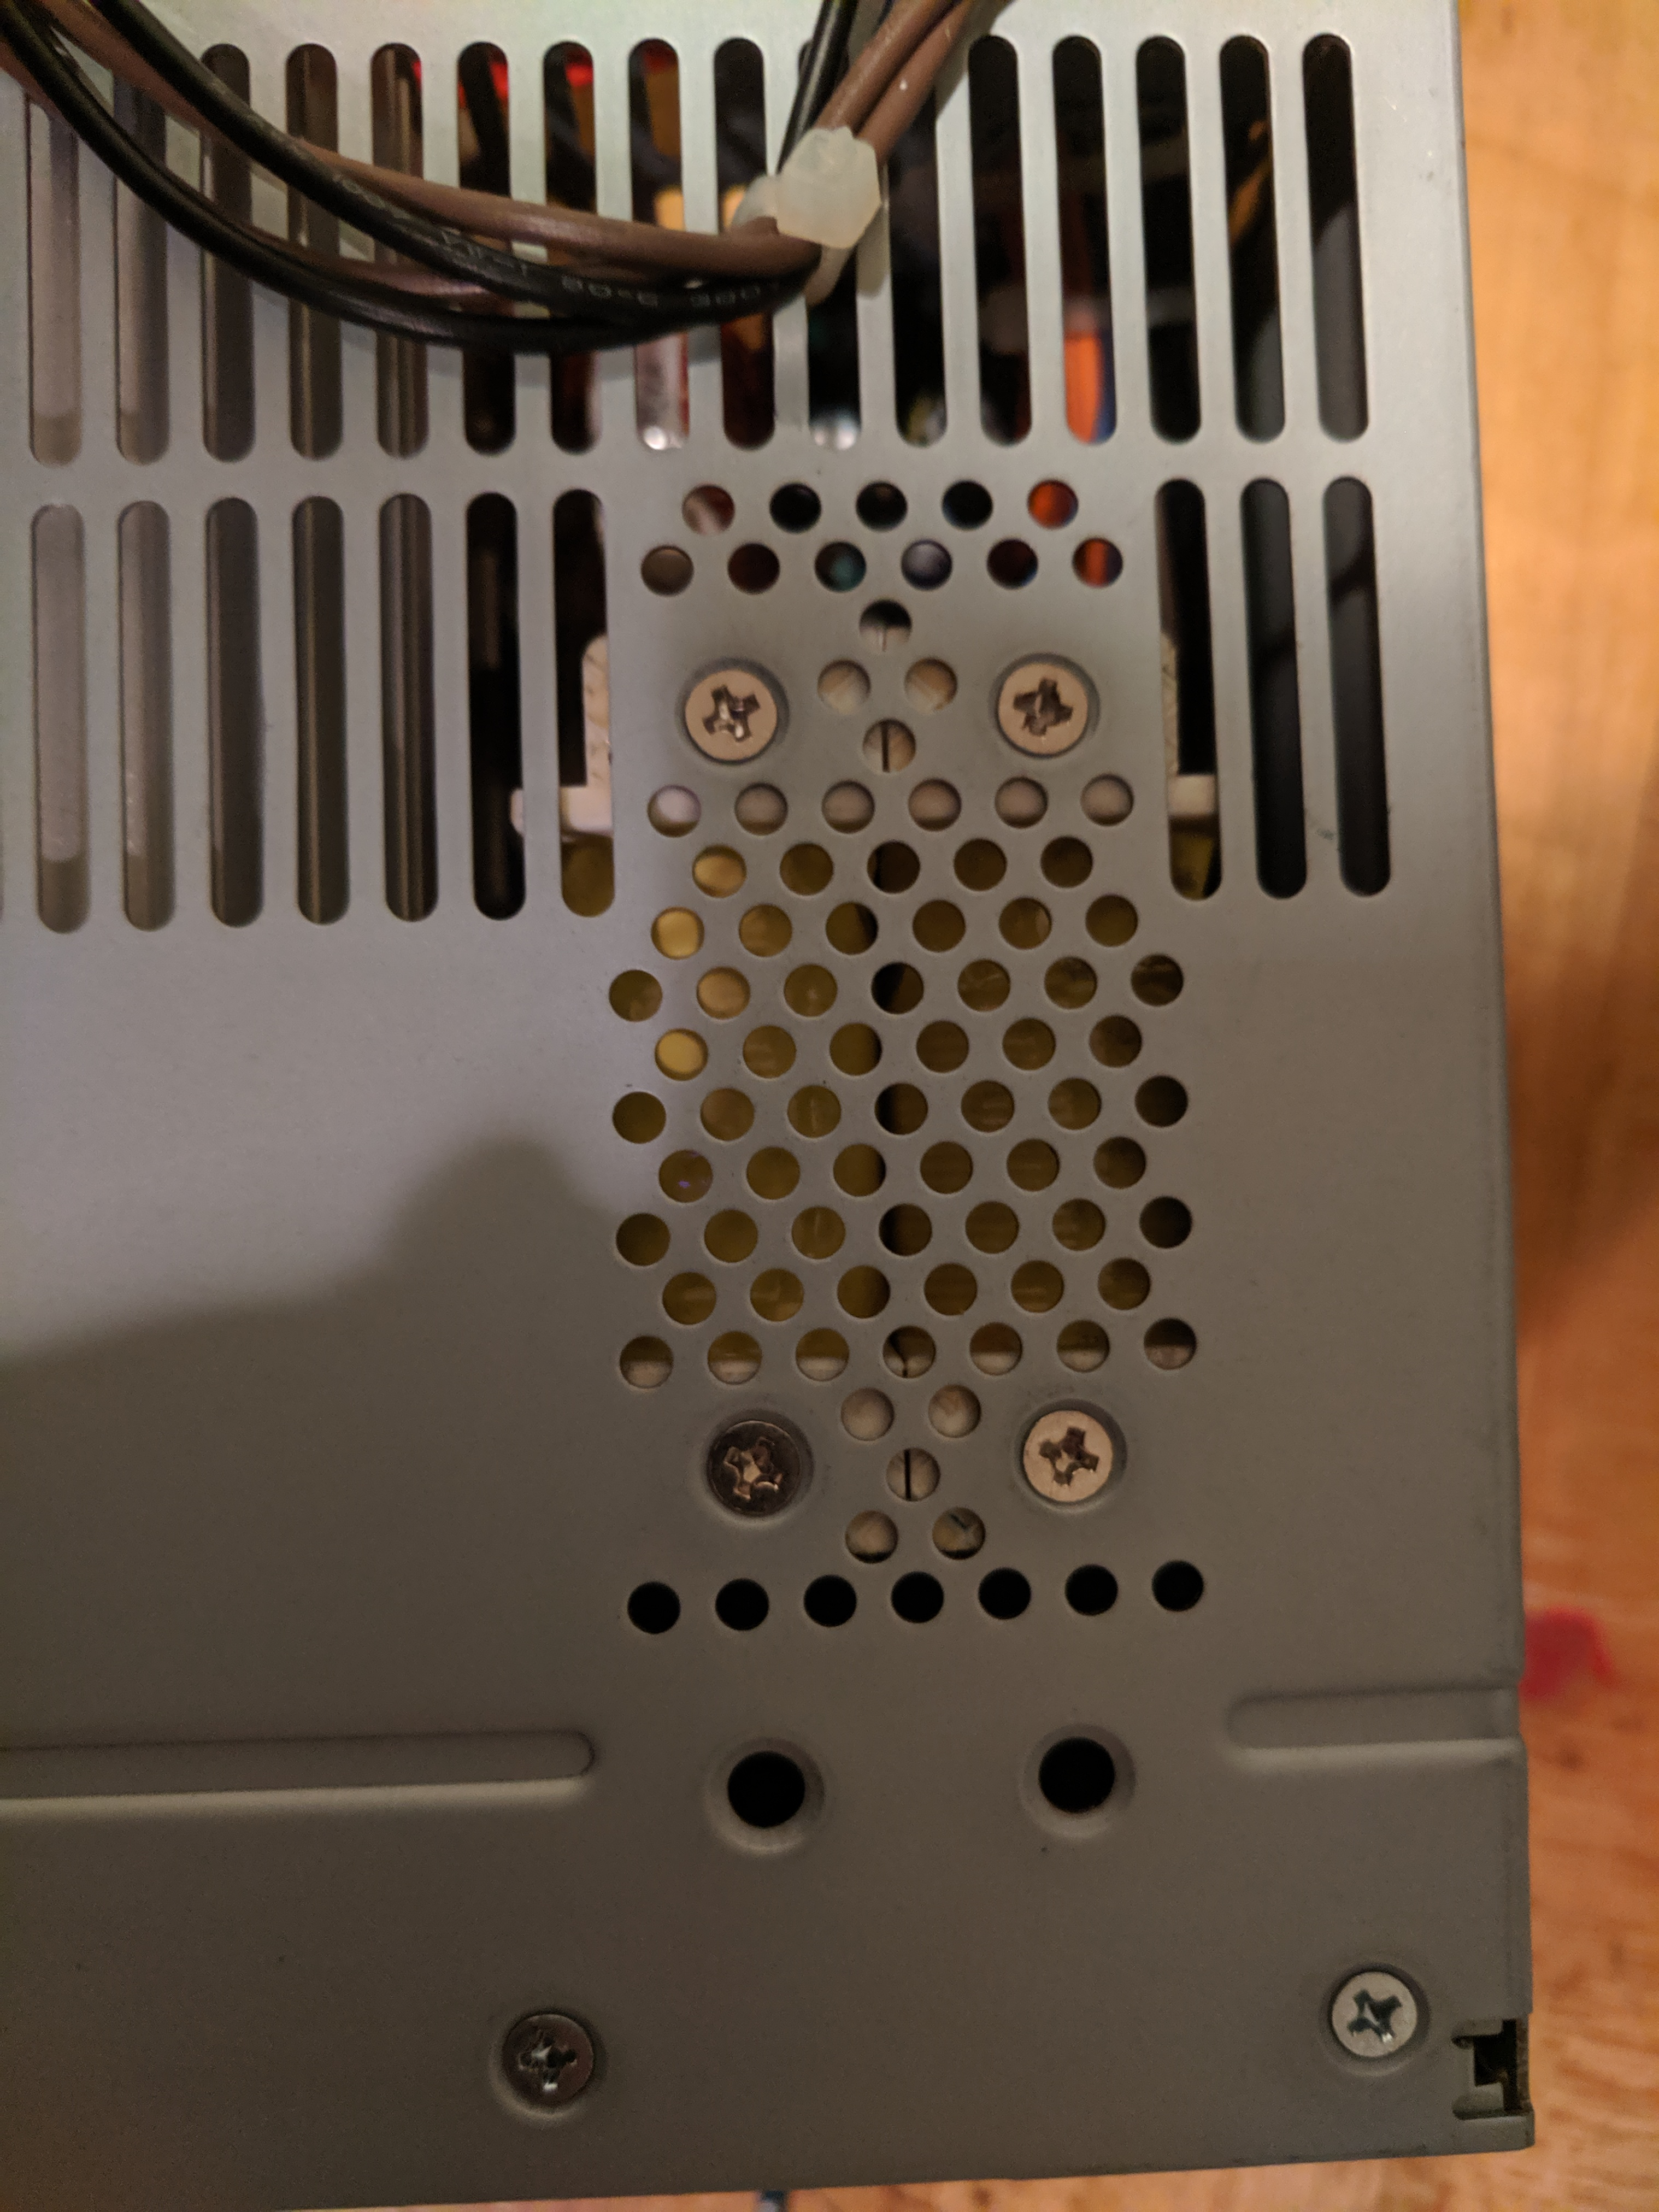cross_recessed_screw: (1300, 1947, 1441, 2074), (1000, 1392, 1129, 1515), (681, 1400, 814, 1521), (481, 1998, 613, 2114), (979, 641, 1103, 759), (673, 653, 788, 759)
